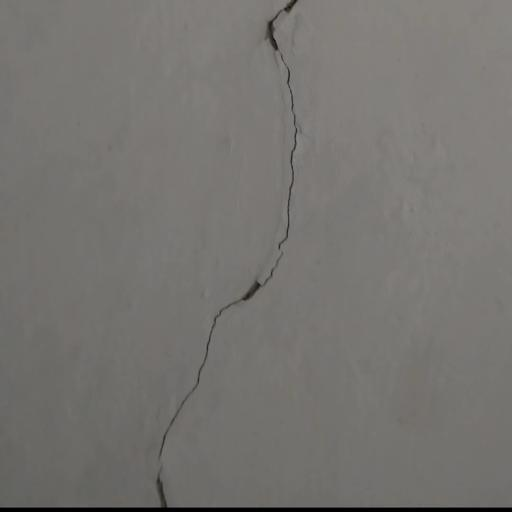major_crack: (154, 0, 333, 511)
